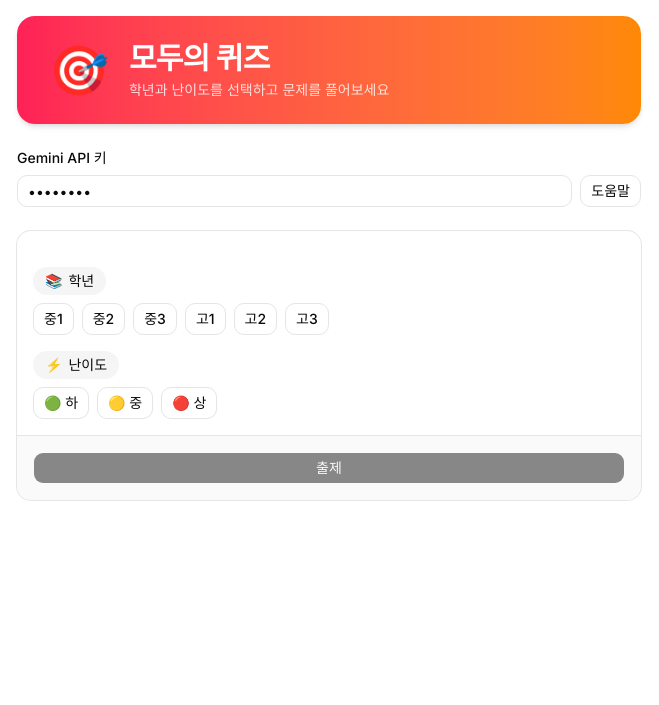
Test: QuizPage › 일부 오답 → 혼합 결과 + 부분 총점
The image size is (659, 705).
Click the radio button labelled "중2".
click(103, 319)  # box [82, 303, 125, 335]
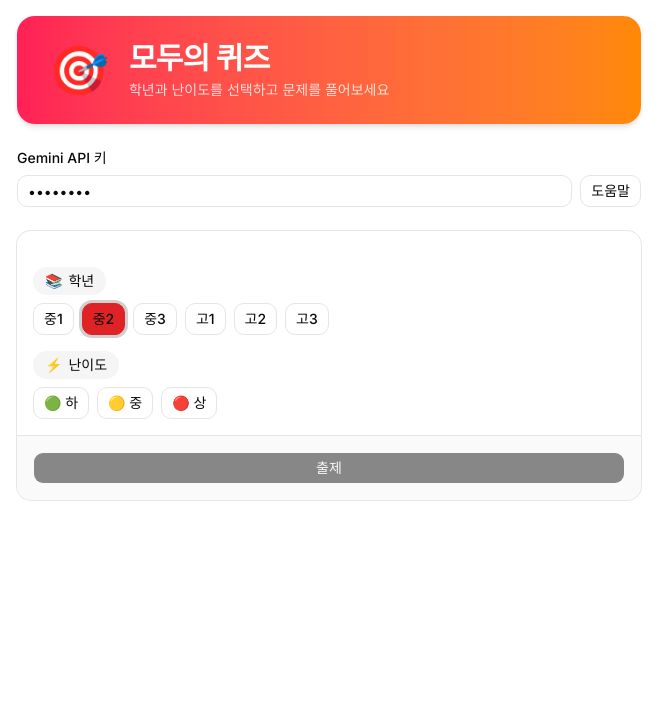
Click the radio button labelled "중".
click(125, 403)  # box [97, 387, 153, 419]
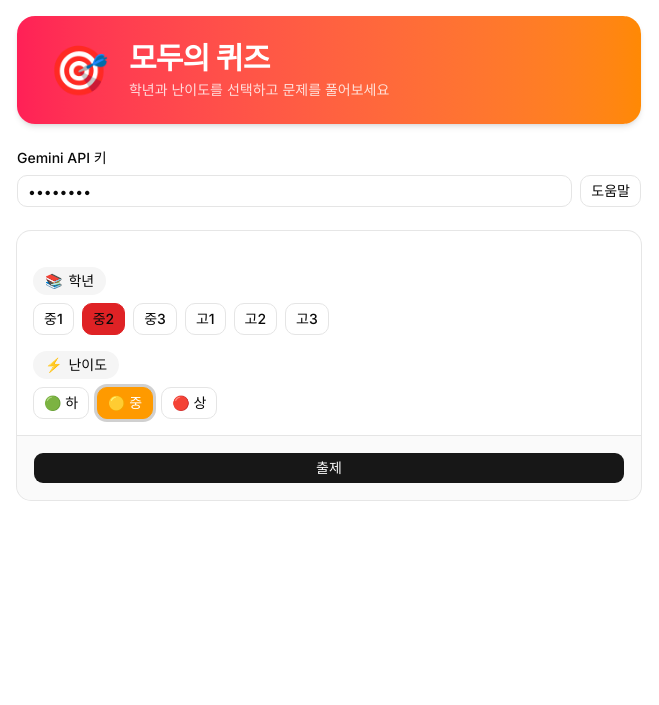
Click the button "출제".
click(329, 468)  # box [33, 452, 625, 484]
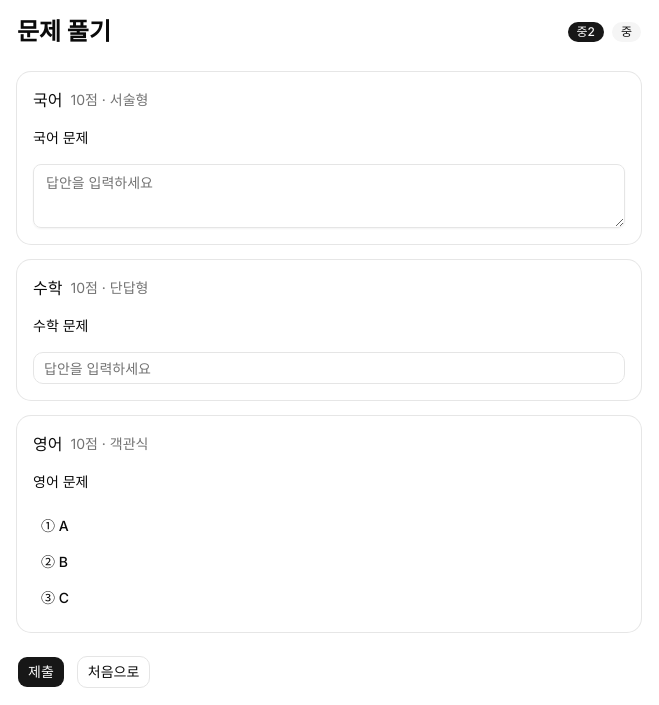
expect the text "국어 문제" is shown: met, box [33, 129, 88, 146]
Click the button "제출".
click(41, 672)  # box [17, 656, 65, 688]
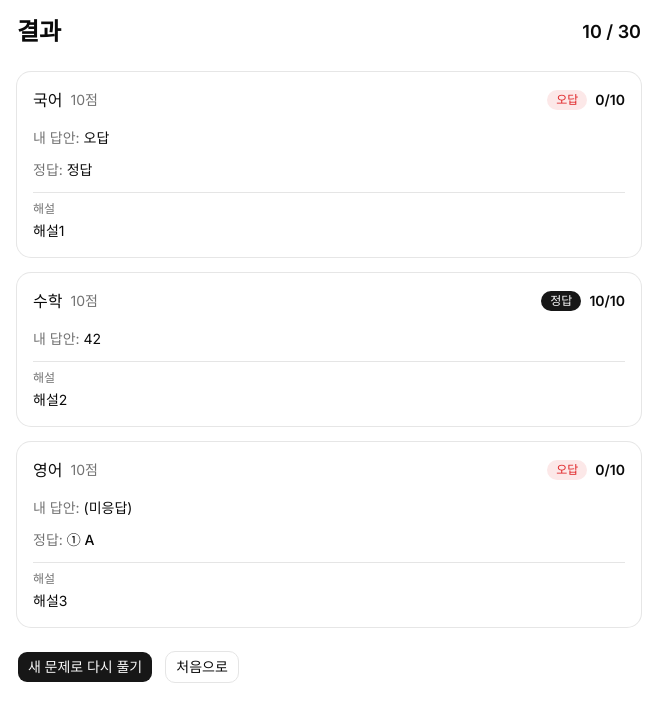
expect the text "10 / 30" is shown: met, box [582, 18, 641, 46]
expect the text "(미응답)" is shown: met, box [84, 499, 132, 516]
